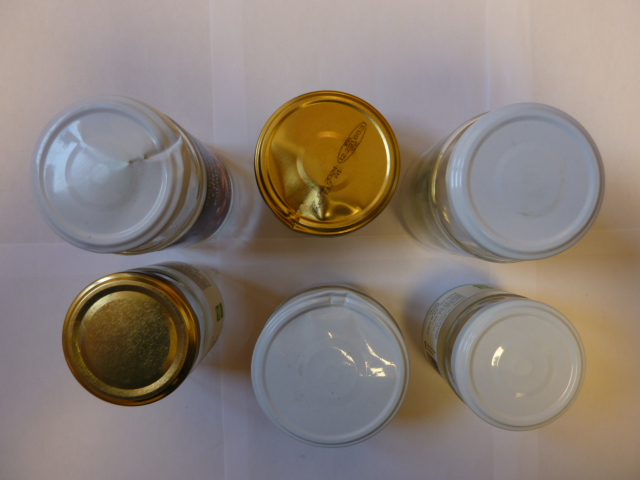damaged: (250, 285, 410, 446), (254, 90, 400, 237)
intact: (446, 102, 605, 259), (60, 270, 200, 407), (454, 301, 586, 429)
